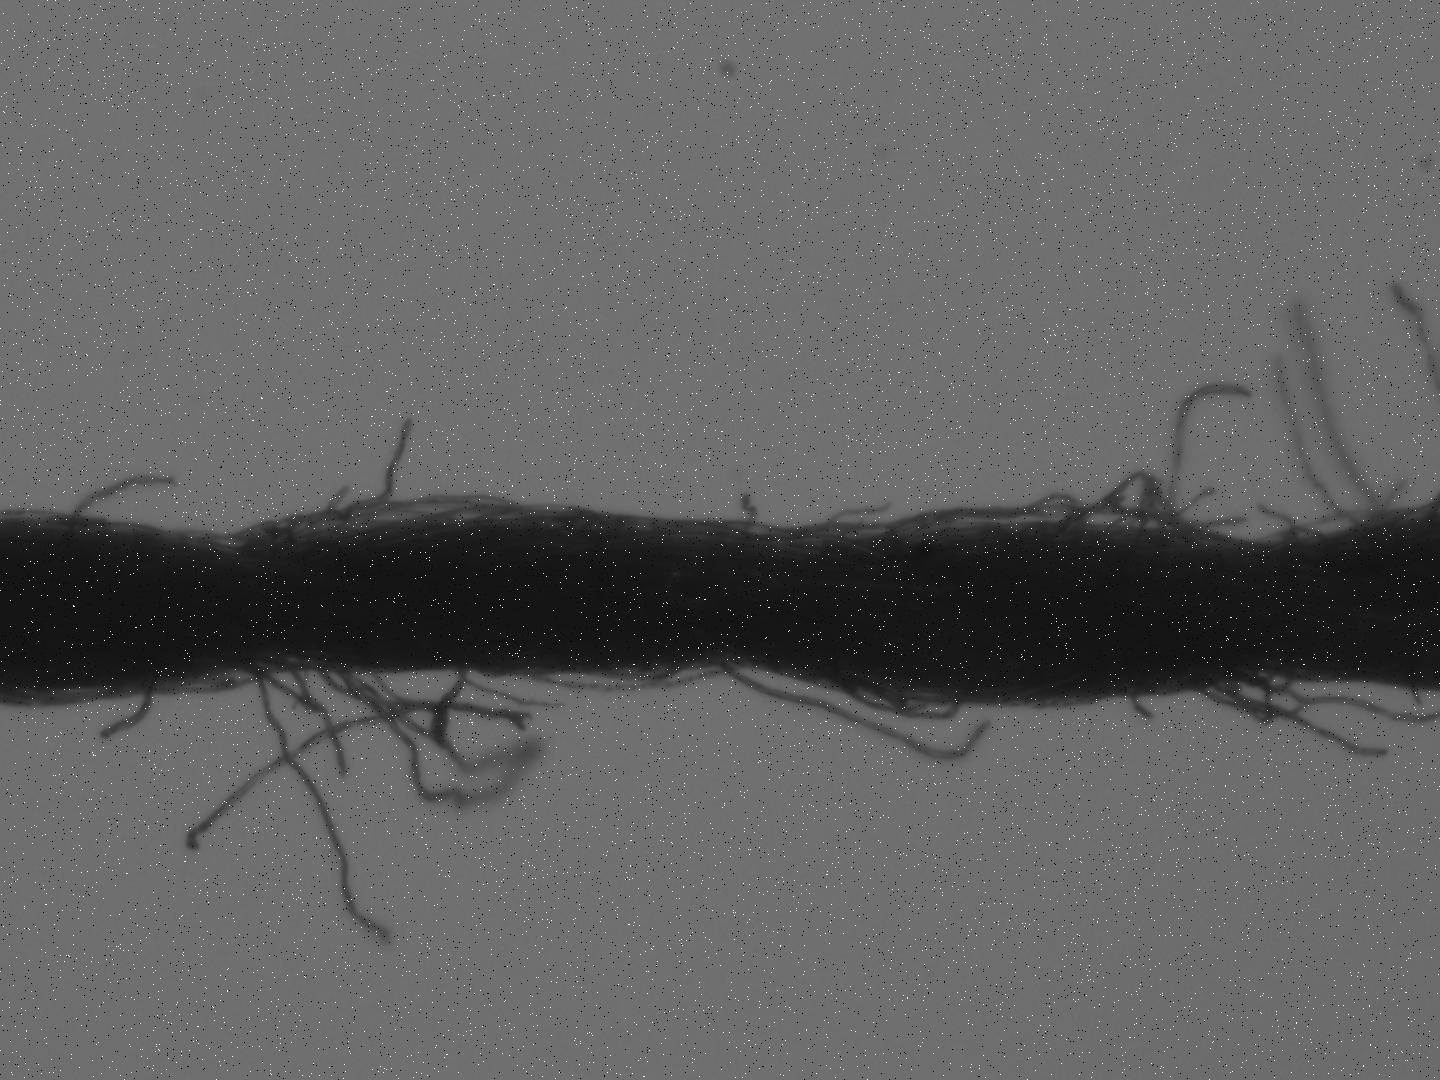loop_fiber: (1025, 471, 1277, 559), (219, 492, 509, 563), (879, 498, 1073, 543), (827, 675, 975, 725), (525, 661, 736, 694), (1205, 676, 1277, 727), (570, 664, 684, 683)
protruding_fiber: (247, 661, 391, 947), (68, 472, 179, 512), (378, 417, 413, 504), (108, 682, 152, 743)
